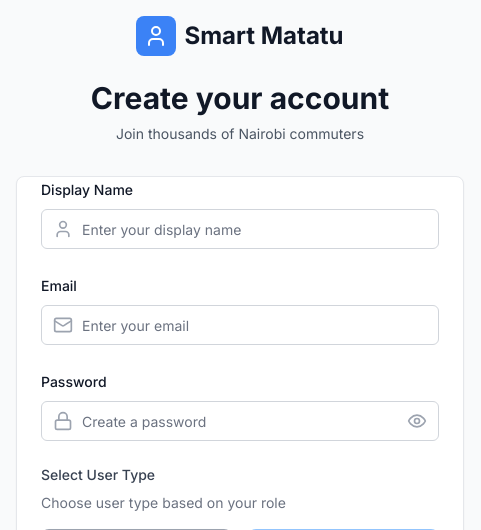
Test: Signup › validates password requirements in real-time
// Type password that meets some requirements
Type "Test" into the password field labelled "Password" at (240, 421), box [41,401,439,441]
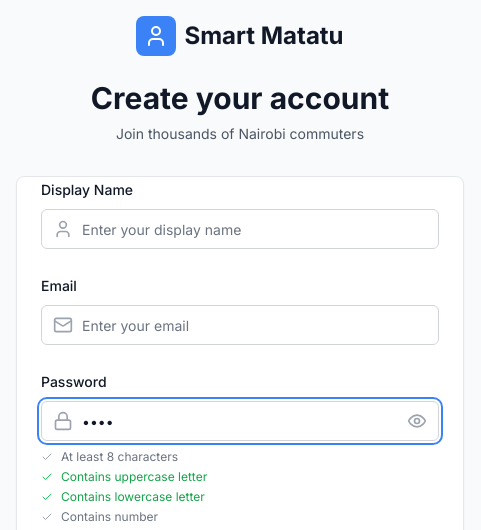
Result: the text "At least 8 characters" is shown 4 times at [61,449,178,465]; [61,469,207,485]; [61,489,205,505]; [61,509,158,525]
